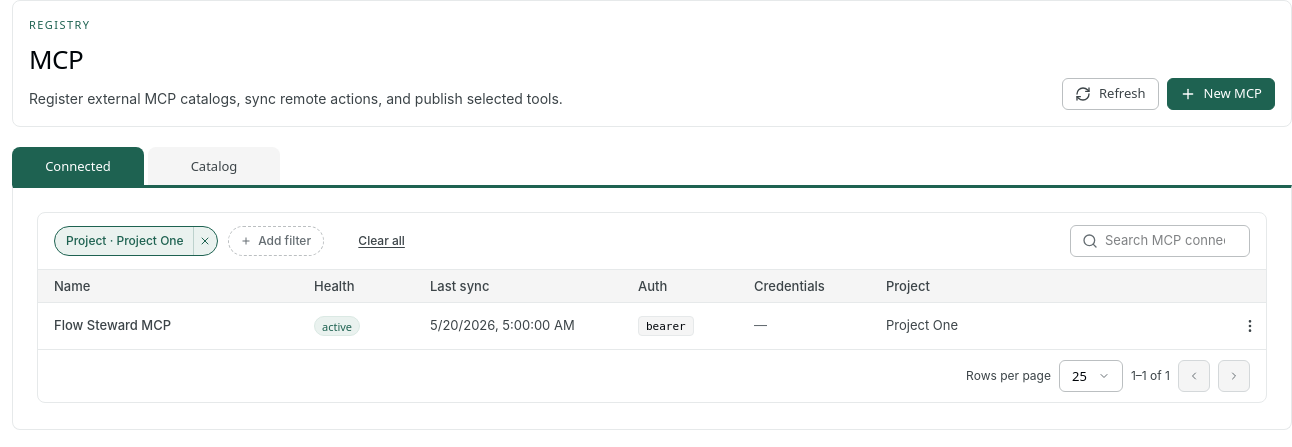
Scenario: RegistryMcpPage › shows project-scoped mutation controls without platform-admin capability
This screenshot has width=1292, height=447.
Click the button named "Actions for ".
click(1250, 326)  # box [1234,310,1266,342]
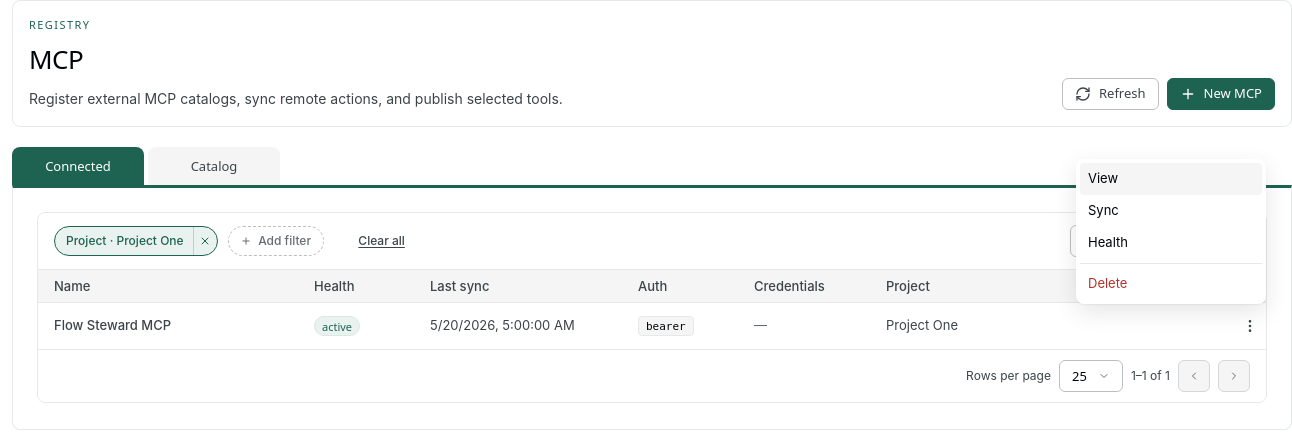
Result: the menu item "Sync" is shown at [1080,195,1262,227]
Result: the menu item "Health" is shown at [1080,227,1262,259]
Result: the menu item "Delete" is shown at [1080,268,1262,300]
